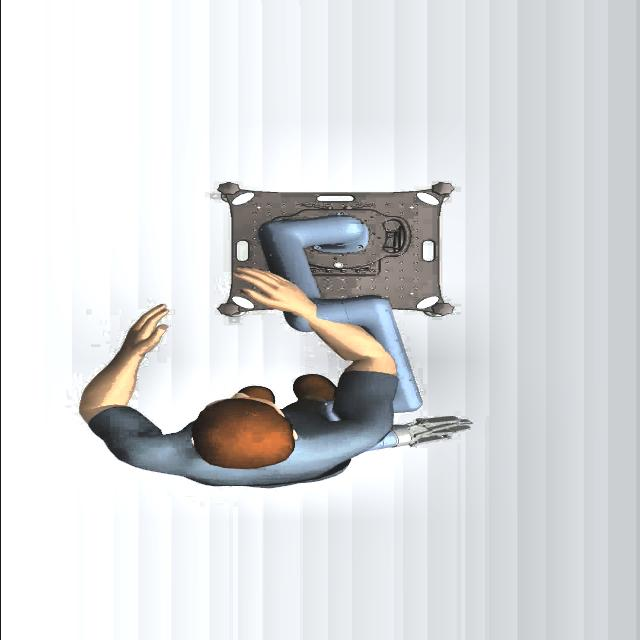human: (78, 266, 474, 489)
robot: (249, 210, 471, 453)
